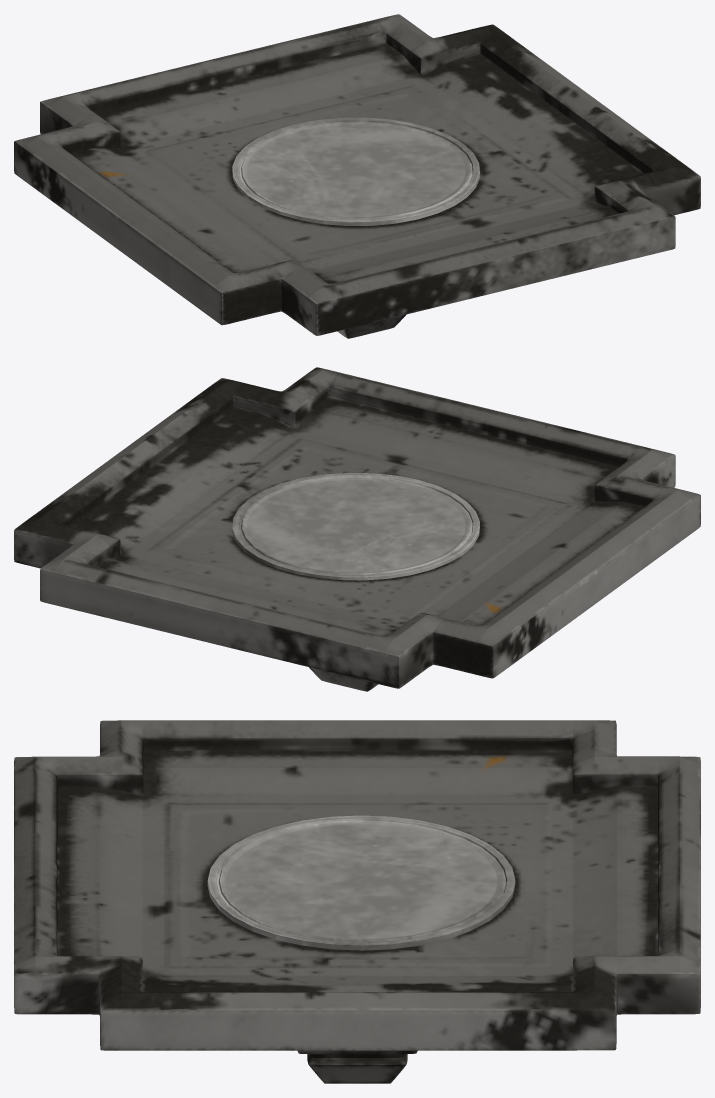
The model's file is Platform_central_lvl1.fbx.
The picture shows the model from 3 angles, top to bottom: view 1: azimuth 30°, elevation 25°; view 2: azimuth 150°, elevation 25°; view 3: azimuth 270°, elevation 25°; orthographic projection. The views are drawn at different scales.
Visible parts, largest first — view 1: plataforma_1_001; view 2: plataforma_1_001; view 3: plataforma_1_001.
Part boxes in pixels (bbox=[...]): plataforma_1_001: bbox=[14, 14, 700, 338]; plataforma_1_001: bbox=[14, 367, 700, 691]; plataforma_1_001: bbox=[14, 720, 700, 1083].
Bounding box in the file's own units: 5249 × 1800 × 5249.
1 material, 1 textured.
